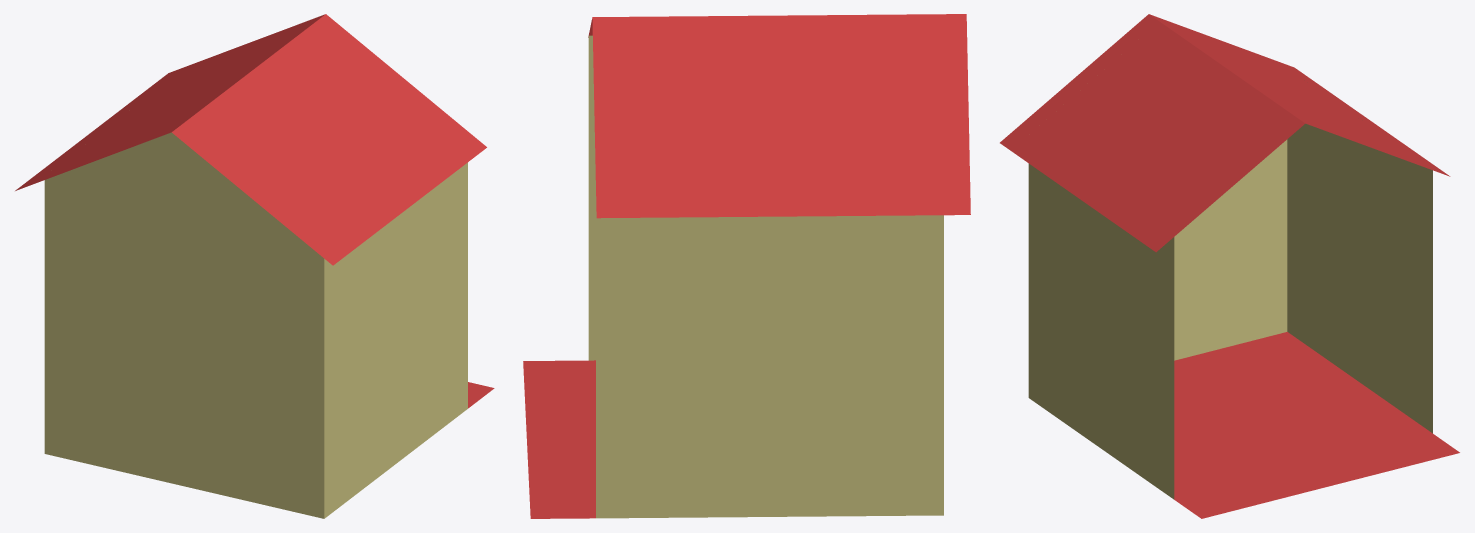
The picture shows the model from 3 angles, left to right: view 1: azimuth 30°, elevation 25°; view 2: azimuth 150°, elevation 25°; view 3: azimuth 270°, elevation 25°; orthographic projection. The views are drawn at different scales.
Size of the model in its own units: 11.12 by 10.87 by 8.91.
